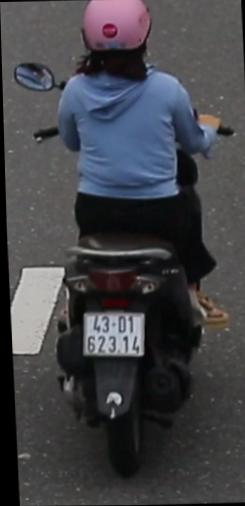LP: (74, 303, 151, 364)
helmet: (58, 0, 176, 89)
